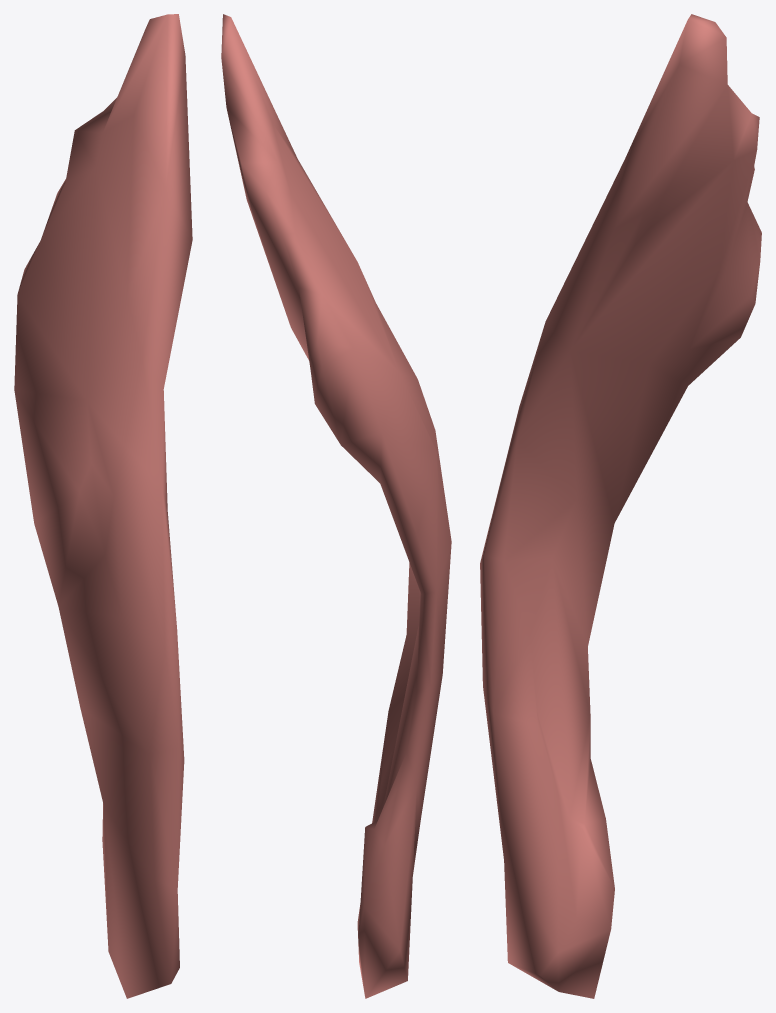
3 views of the same model, side by side, from view 1: azimuth 30°, elevation 25°; view 2: azimuth 150°, elevation 25°; view 3: azimuth 270°, elevation 25° (orthographic). The views are drawn at different scales.
Parts seen in each view (by area): view 1: ZA_bdf5cd4d46cf483b; view 2: ZA_bdf5cd4d46cf483b; view 3: ZA_bdf5cd4d46cf483b.
Part boxes in pixels (x1,y1,x2,y2): ZA_bdf5cd4d46cf483b: [14, 14, 192, 998]; ZA_bdf5cd4d46cf483b: [221, 14, 451, 998]; ZA_bdf5cd4d46cf483b: [480, 14, 761, 998].
Bounding box in the file's own units: 0.00545 × 0.0291 × 0.00723.
